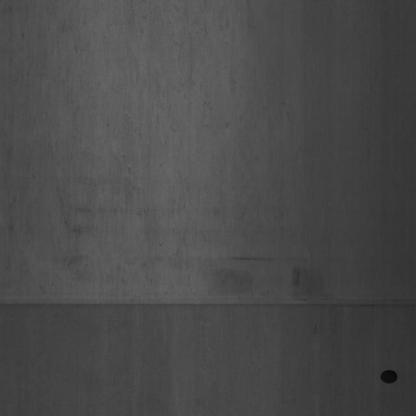punching_hole: (379, 364, 400, 387)
welding_line: (5, 283, 413, 321)
